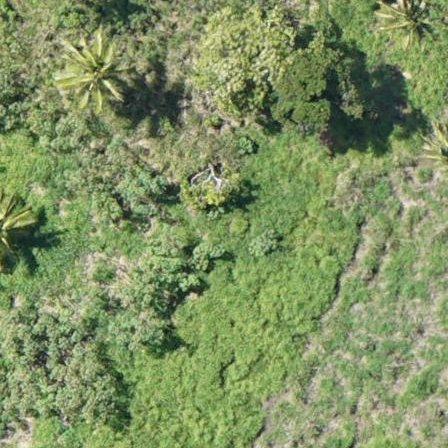palm_tree: (54, 27, 131, 108), (371, 1, 432, 49), (443, 421, 448, 448)
